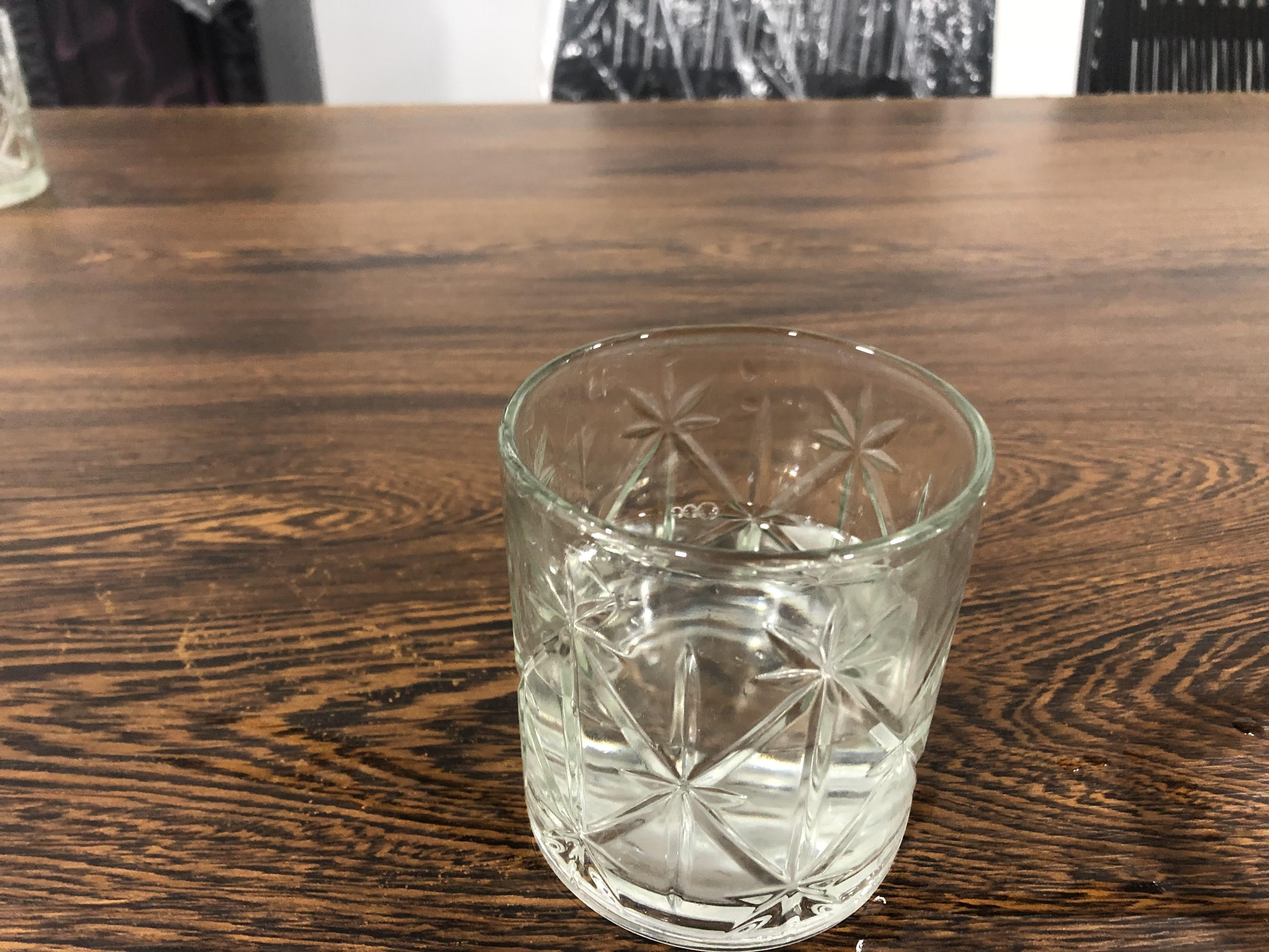glass-normal: (494, 320, 1000, 952)
